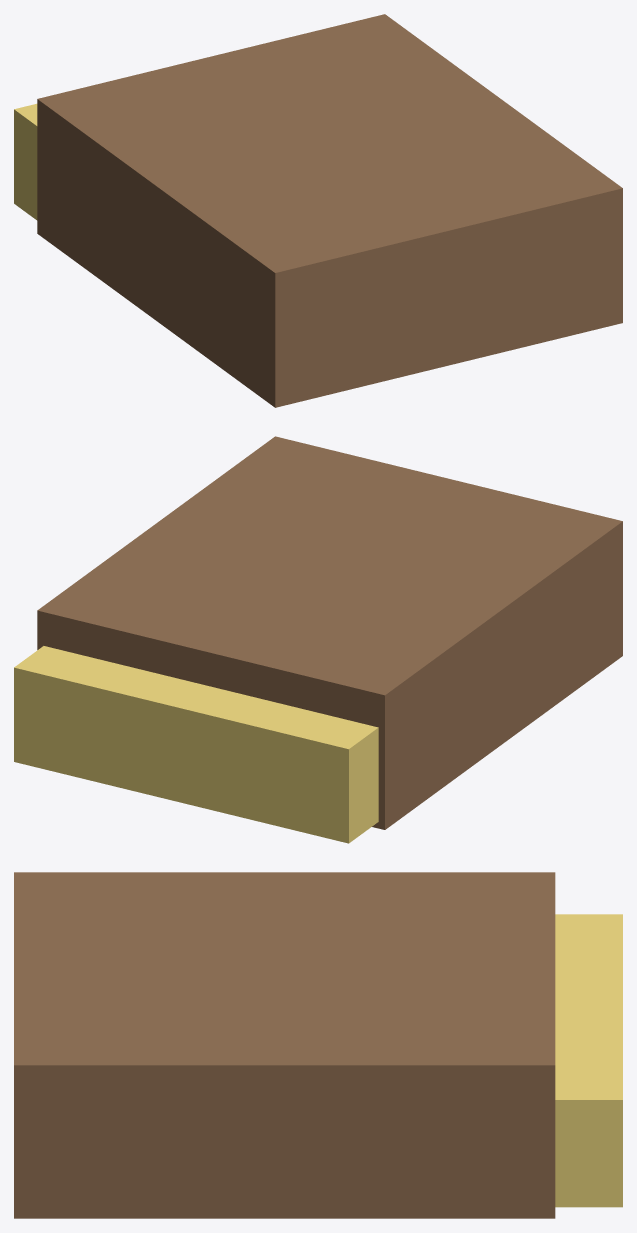
Rendered from bardo_pe.glb.
3 renders of one model, top to bottom at view 1: azimuth 30°, elevation 25°; view 2: azimuth 150°, elevation 25°; view 3: azimuth 270°, elevation 25°, orthographic. The views are drawn at different scales.
Parts seen in each view (by area): view 1: bardo_pe; view 2: bardo_pe; view 3: bardo_pe.
Part boxes in pixels (x1,y1,x2,y2): bardo_pe: (14, 14, 622, 407); bardo_pe: (14, 436, 622, 843); bardo_pe: (14, 872, 622, 1218).
Bounding box in the file's own units: 0.27 × 0.1 × 0.36.
